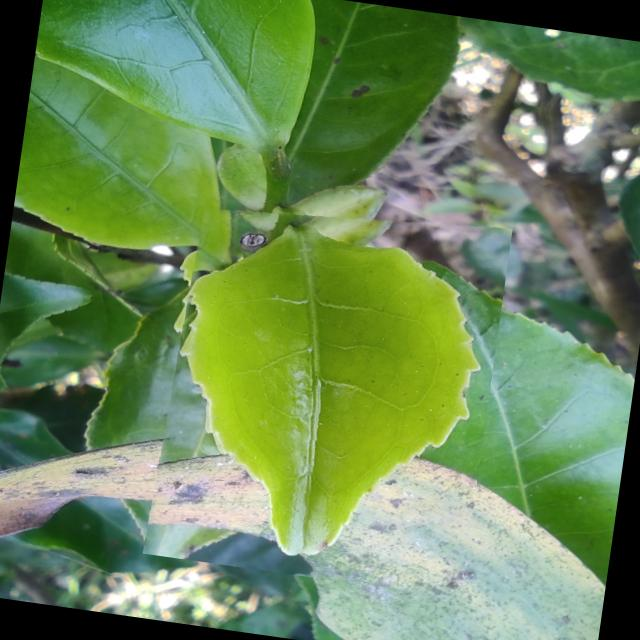Category C(4-7 days): (140, 183, 511, 598)
